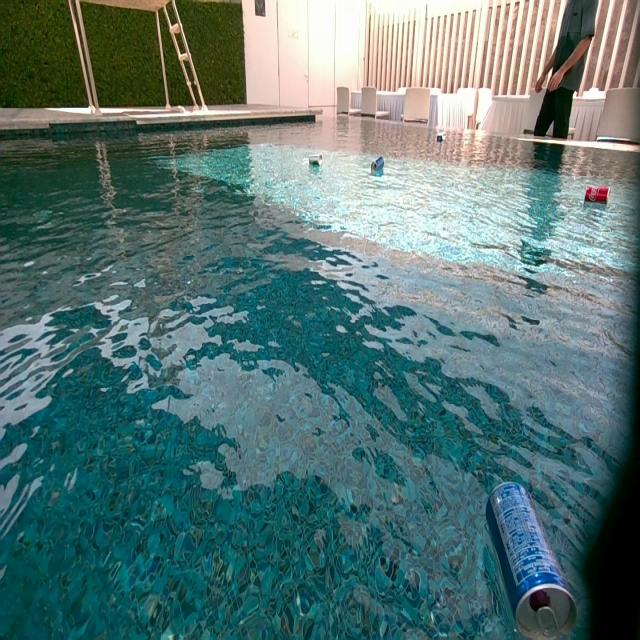Cans: (483, 478, 575, 640), (585, 186, 608, 204), (309, 155, 323, 170), (372, 157, 385, 173), (436, 134, 444, 144)
